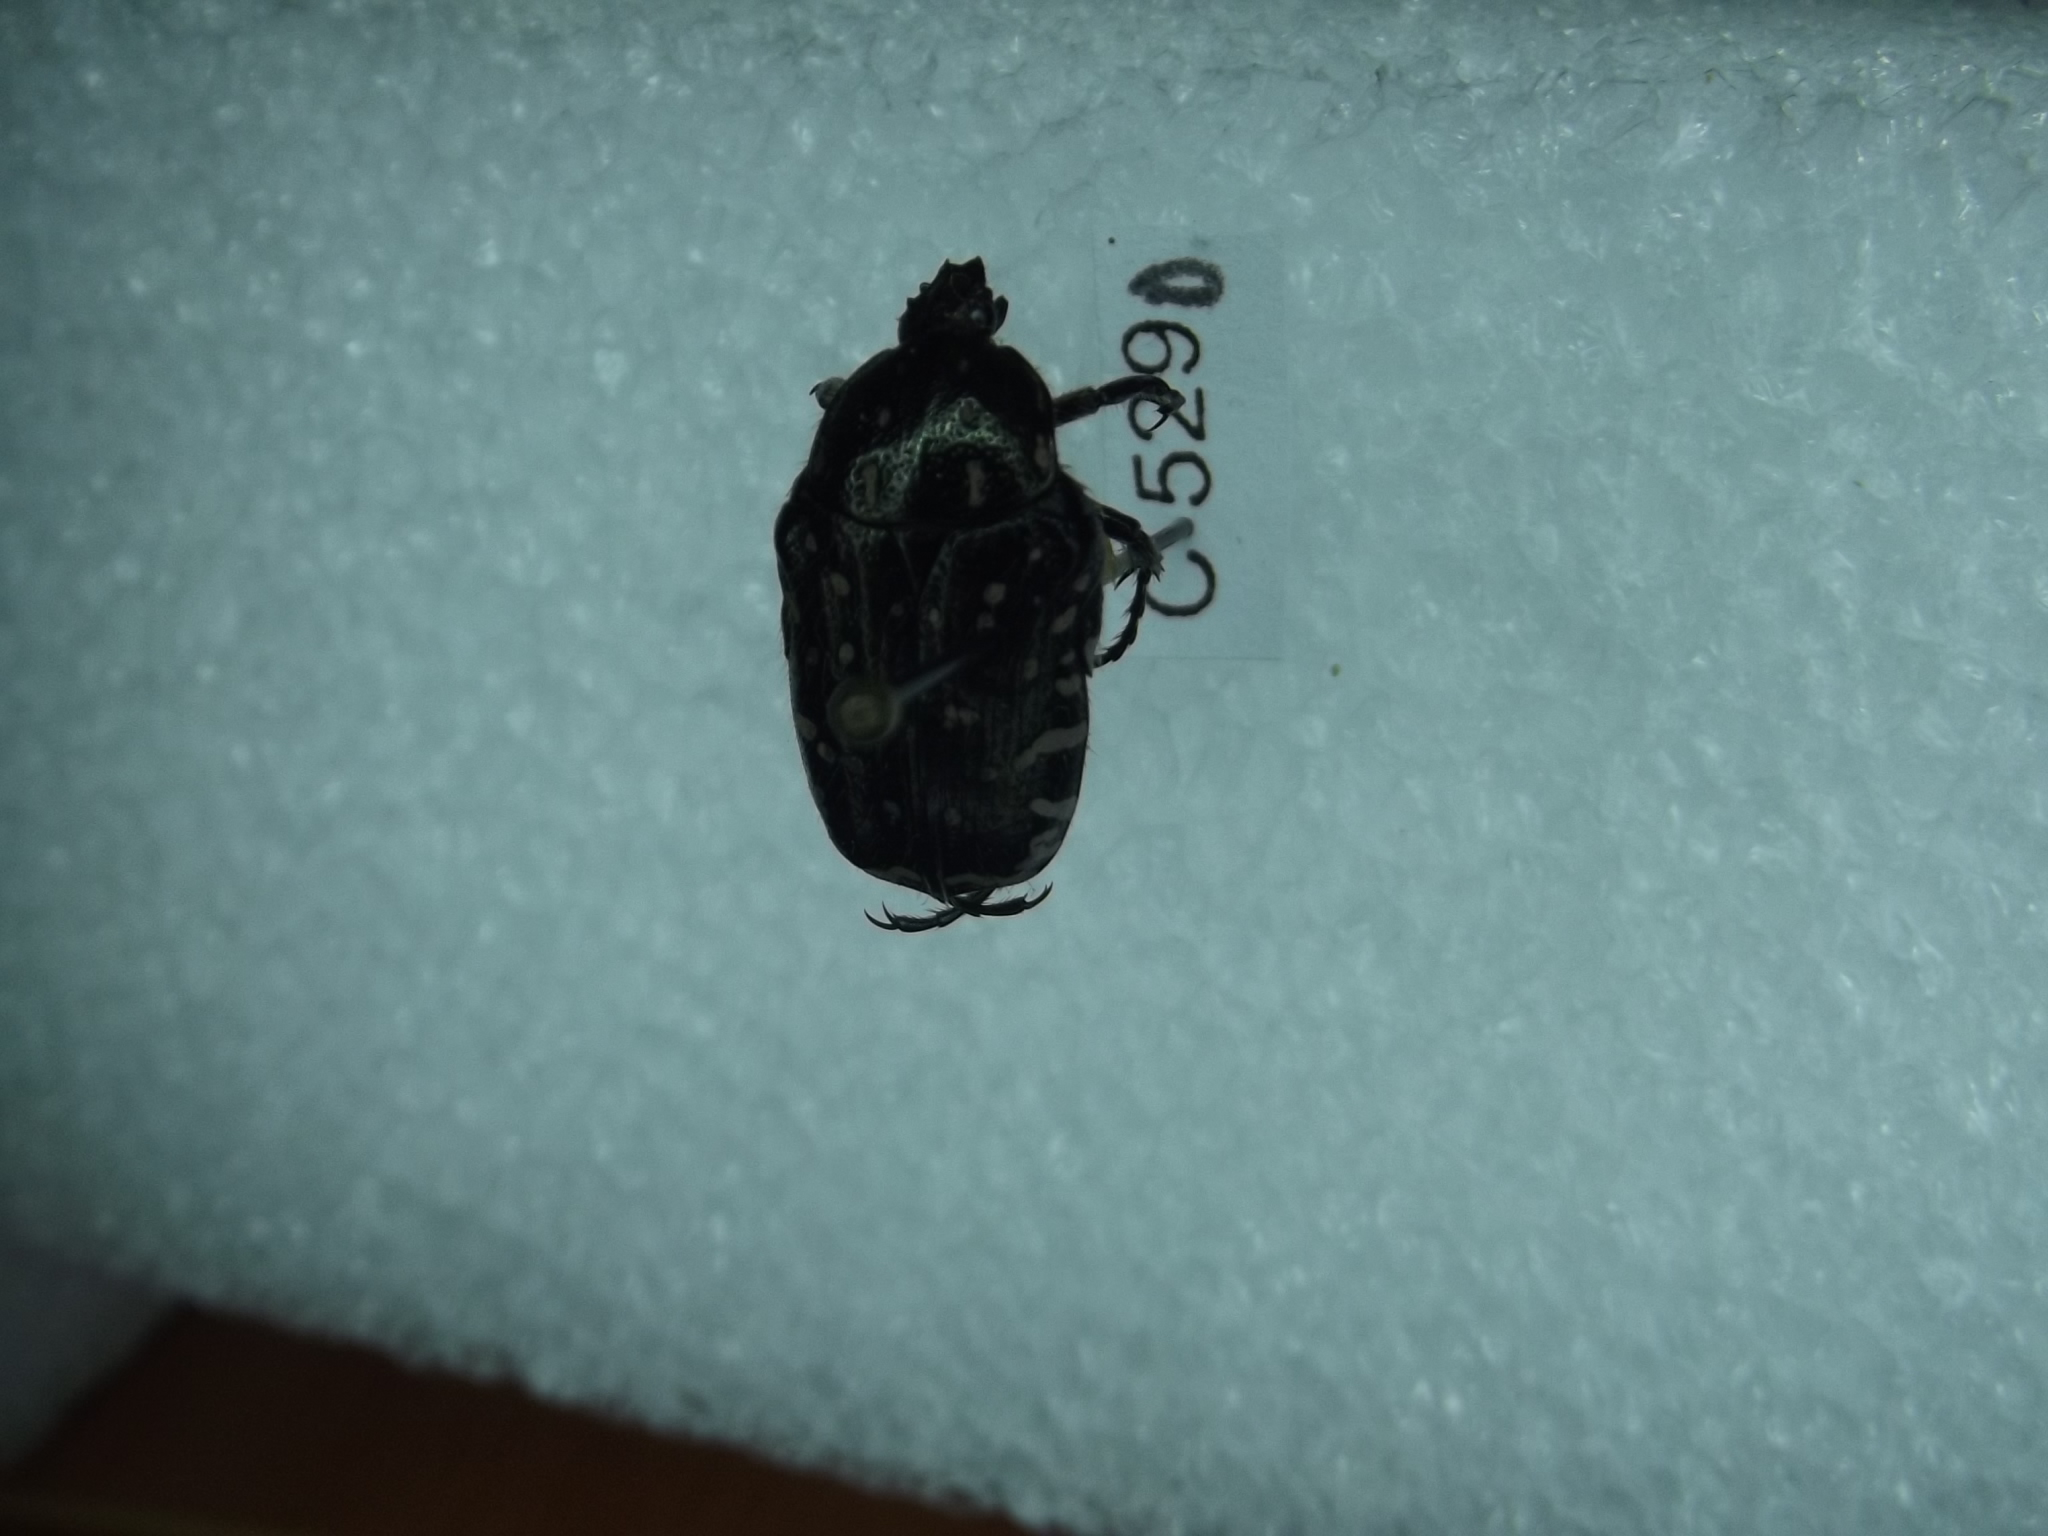Oxythyrea_funesta: (753, 223, 1200, 949)
